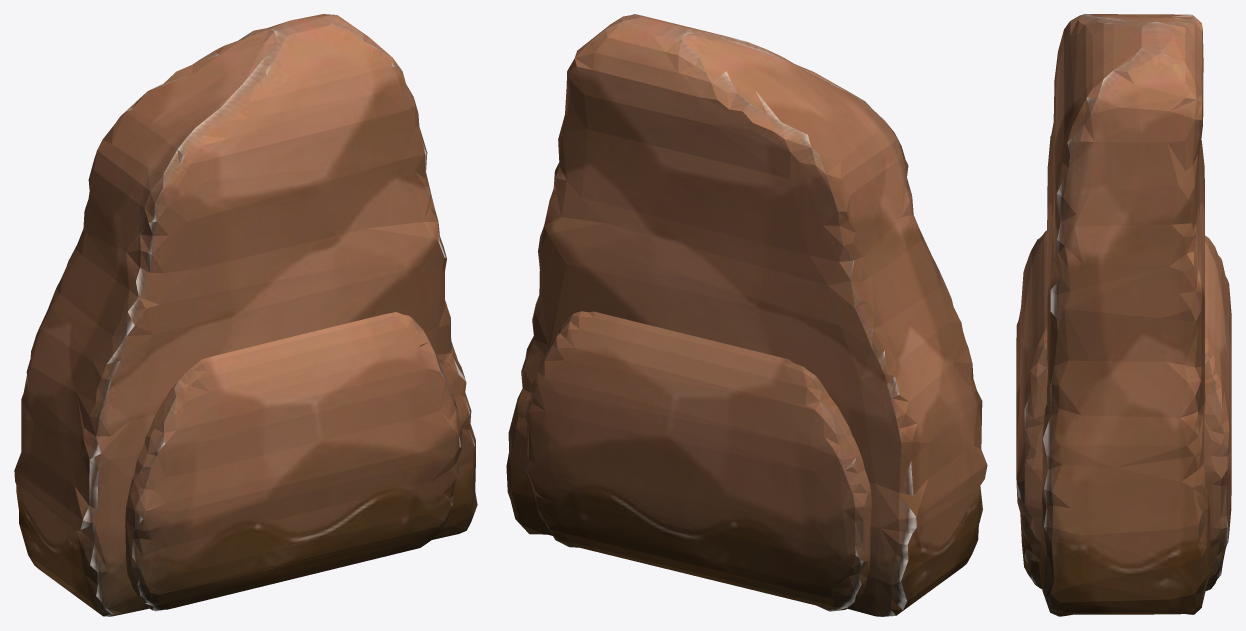
Rendered from rocks_delta.glb.
3 views of the same model, side by side, from view 1: azimuth 30°, elevation 25°; view 2: azimuth 150°, elevation 25°; view 3: azimuth 270°, elevation 25° (orthographic). The views are drawn at different scales.
Parts seen in each view (by area): view 1: rock_tall, rock_round; view 2: rock_tall, rock_round; view 3: rock_tall, rock_round.
Boxes of the visible parts, x1,y1,x2,y2 form: rock_tall: (14,14,477,616); rock_round: (125,312,462,611); rock_tall: (506,14,987,616); rock_round: (525,311,871,611); rock_tall: (1039,14,1210,616); rock_round: (1016,230,1231,590).
Bounding box in the file's own units: 1.22 × 1.48 × 0.5507.
1 material, 1 textured.
